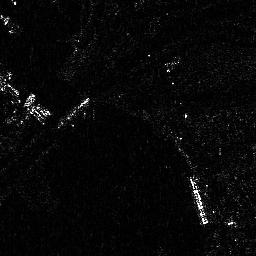ship: (188, 175, 209, 227)
